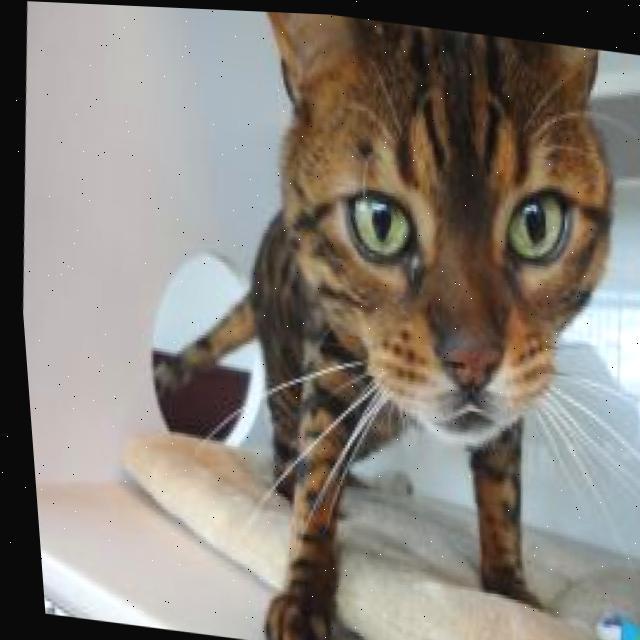Bengal: (127, 4, 640, 640)
